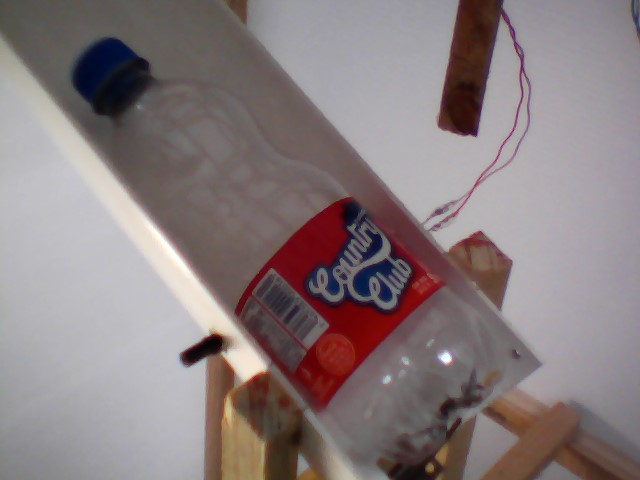plastico: (58, 26, 516, 477)
